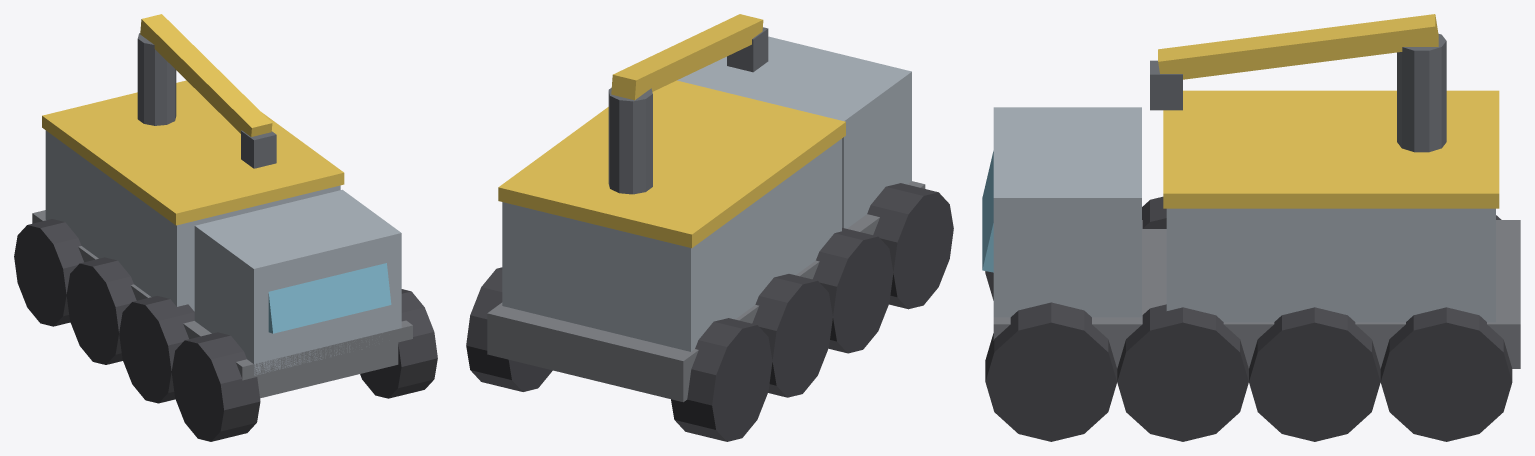
File: Unit_MCV.fbx
The picture shows the model from 3 angles, left to right: view 1: azimuth 30°, elevation 25°; view 2: azimuth 150°, elevation 25°; view 3: azimuth 270°, elevation 25°; orthographic projection. The views are drawn at different scales.
Visible parts, largest first — view 1: Body.003; view 2: Body.003; view 3: Body.003.
Boxes of the visible parts, x1=… form: Body.003: x1=14, y1=14, x2=437, y2=441; Body.003: x1=466, y1=14, x2=953, y2=441; Body.003: x1=982, y1=14, x2=1520, y2=441.
Size of the model in its own units: 1.88 by 2.39 by 3.27.
